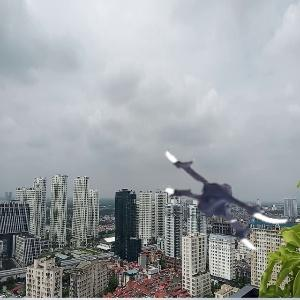drone: (159, 122, 298, 261)
